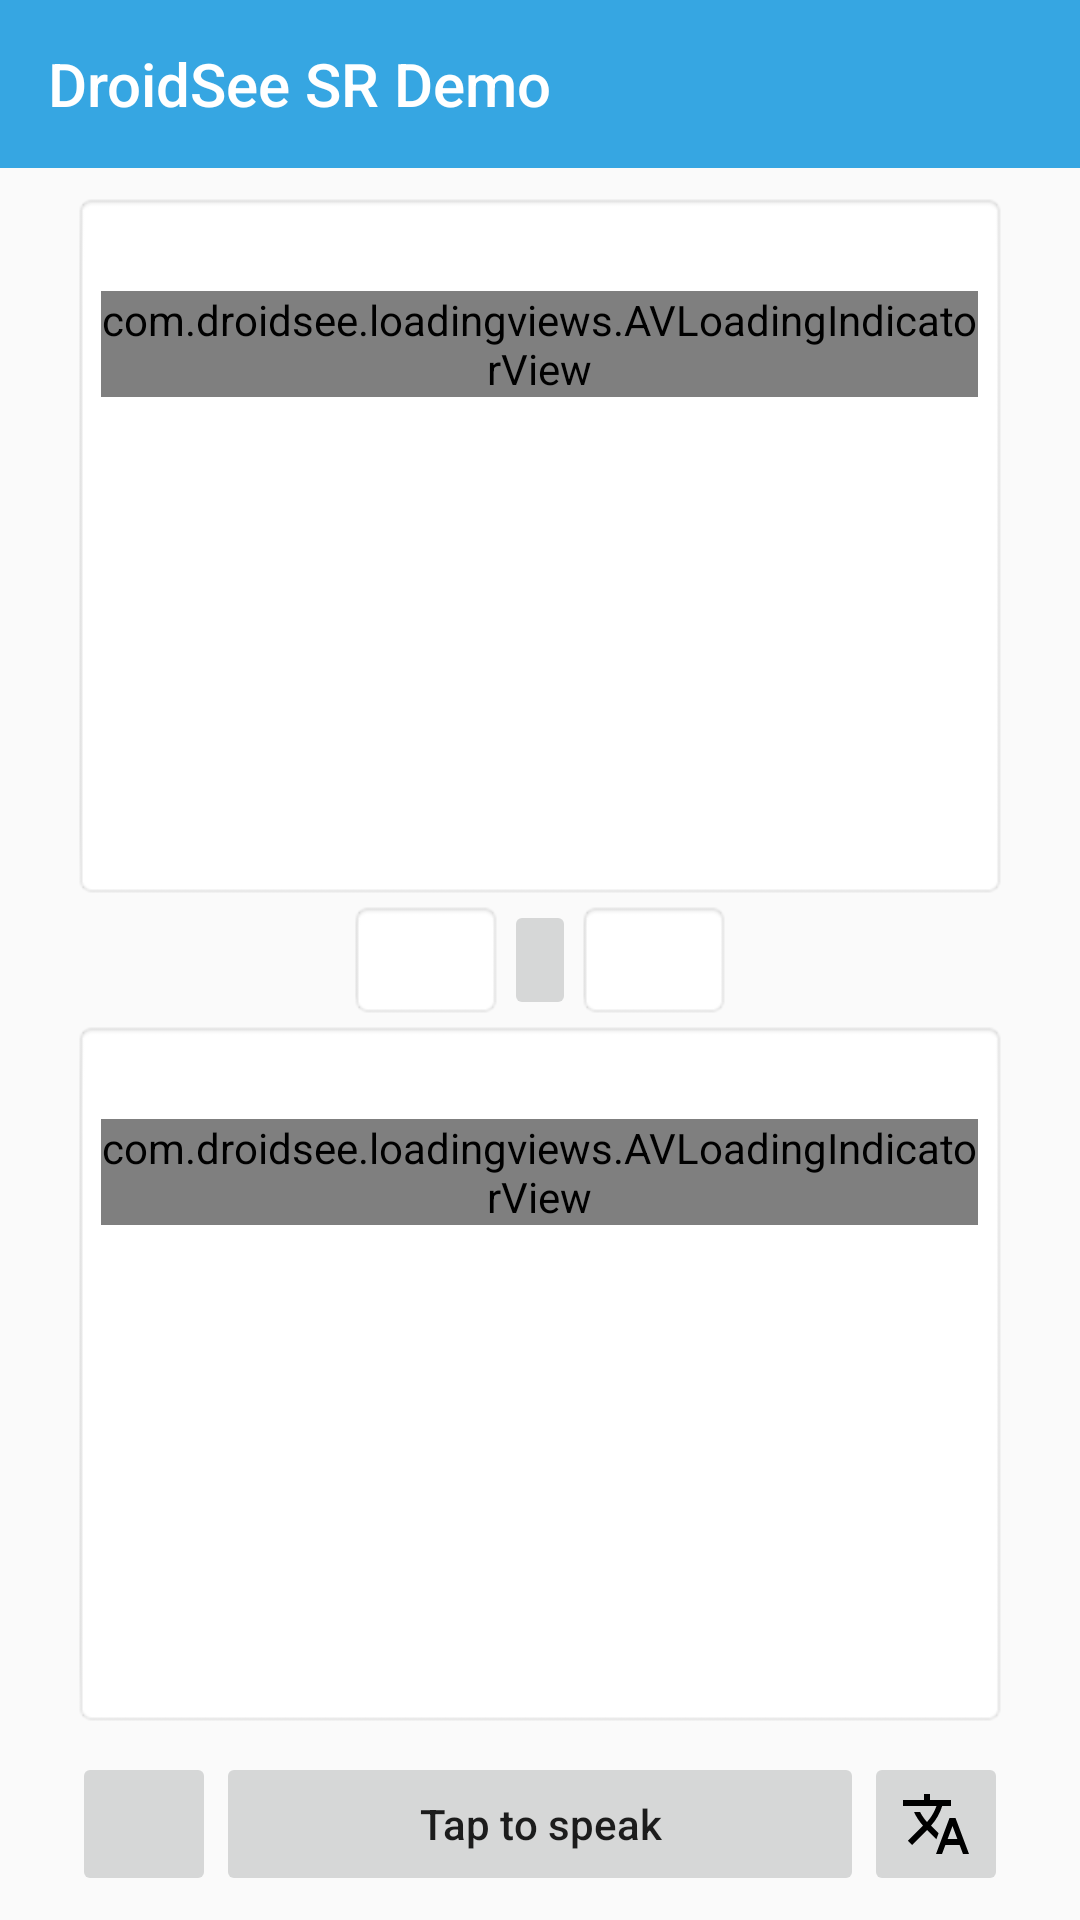

Screen size 1080 x 1920. Icon name, then its center in pixels as [x,y]:
ibtn translate: [936,1824]
